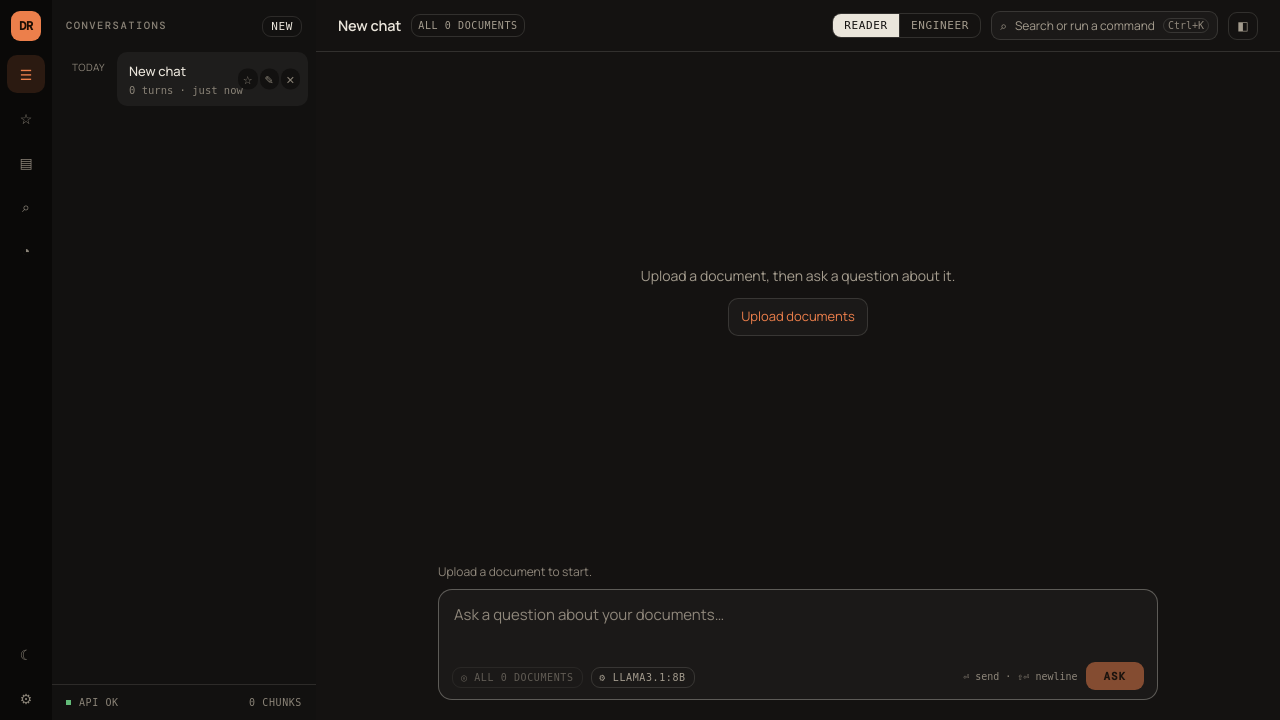
Test: App › releases a pinned trace when the conversation changes
Expected: the text "api ok" is shown, [79,695,119,710]
Click the button with test id "rail-traces": [26, 250] box [7,231,45,269]
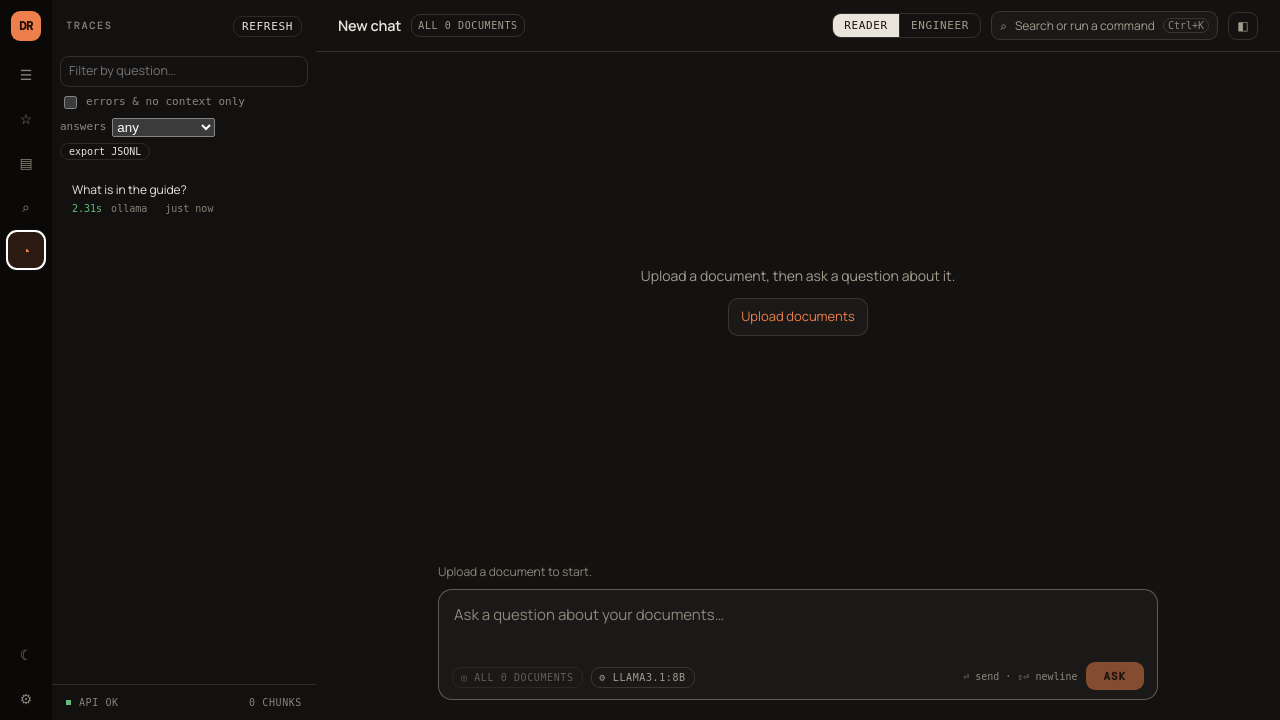
Click the button with test id "traces-panel-row": [184, 197] box [60,171,308,224]
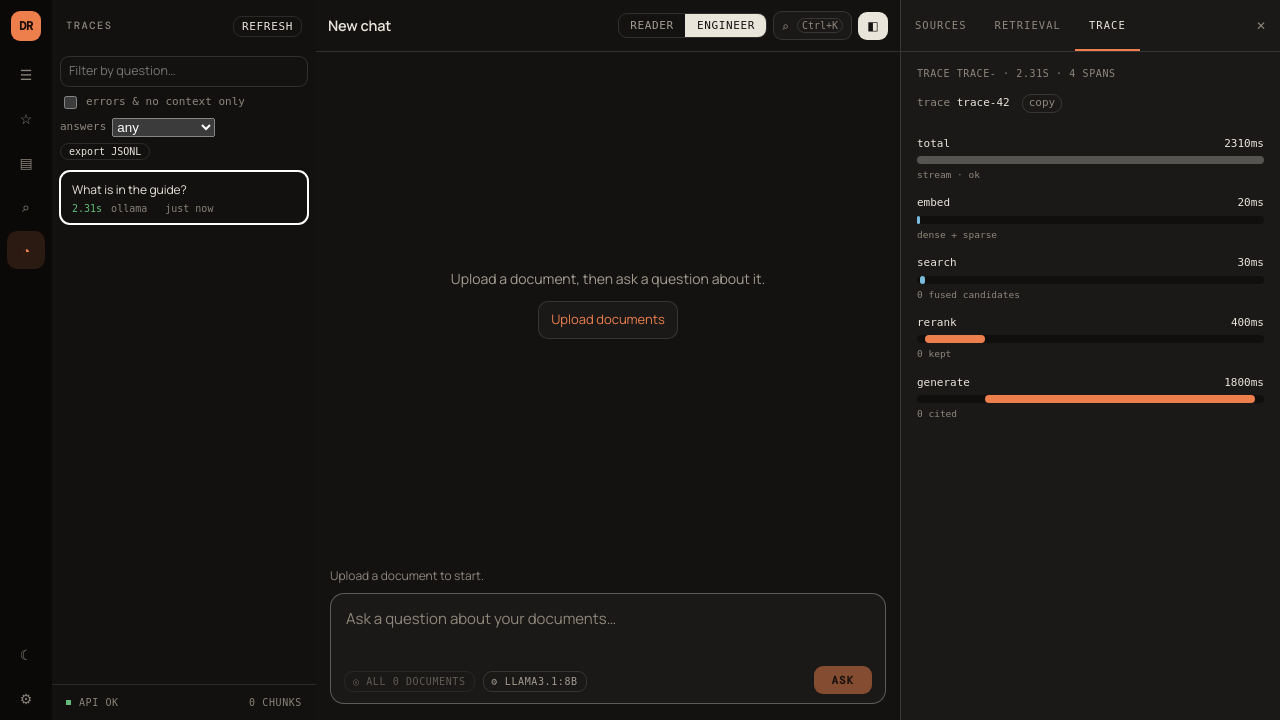
Now the element with test id "trace-tab" is shown, box [901,52,1279,439]
# Start a fresh conversation: the pinned trace belongs to the turns we just left.
Click the button with test id "rail-chat": [26, 74] box [7,55,45,93]
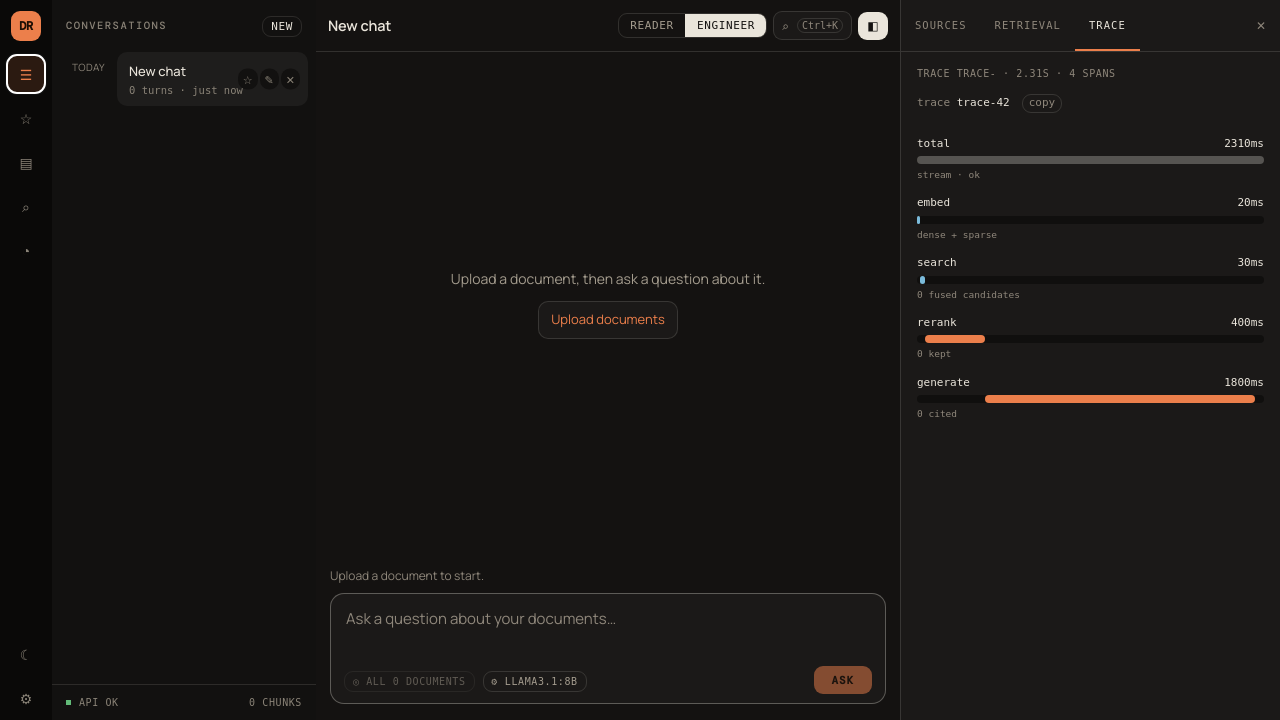
Click the button with test id "context-panel-action": [282, 26] box [262,16,302,36]
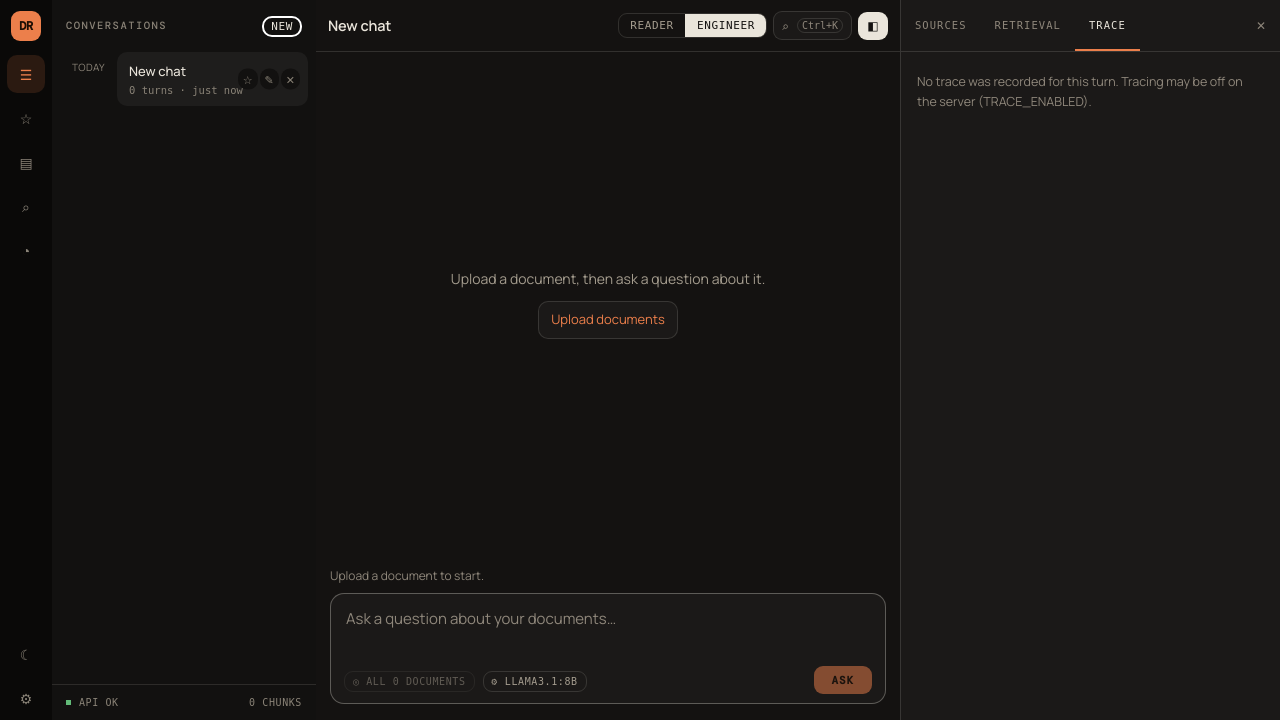
Now the element with test id "trace-tab" is gone
